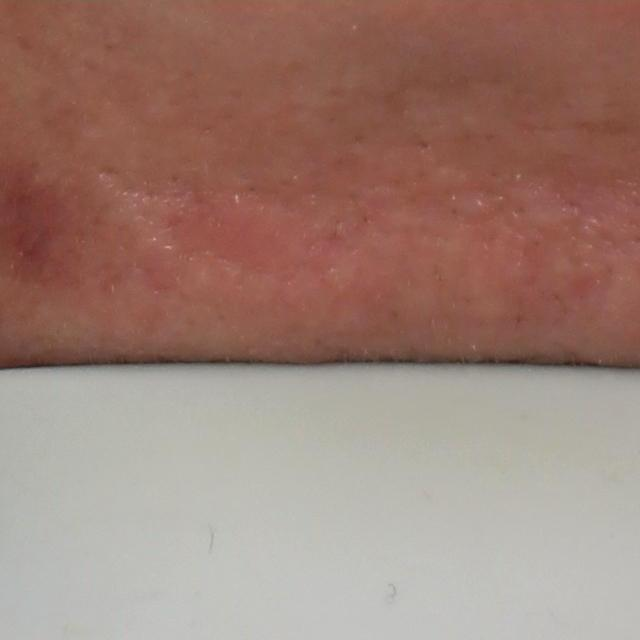atrophic_scar: (94, 162, 190, 211)
hypertrophic_scar: (89, 177, 175, 264), (512, 188, 583, 240)
